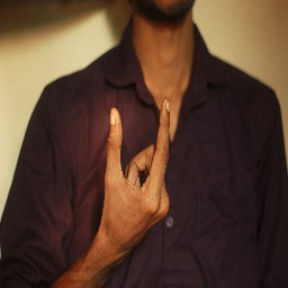U: (100, 95, 182, 233)
